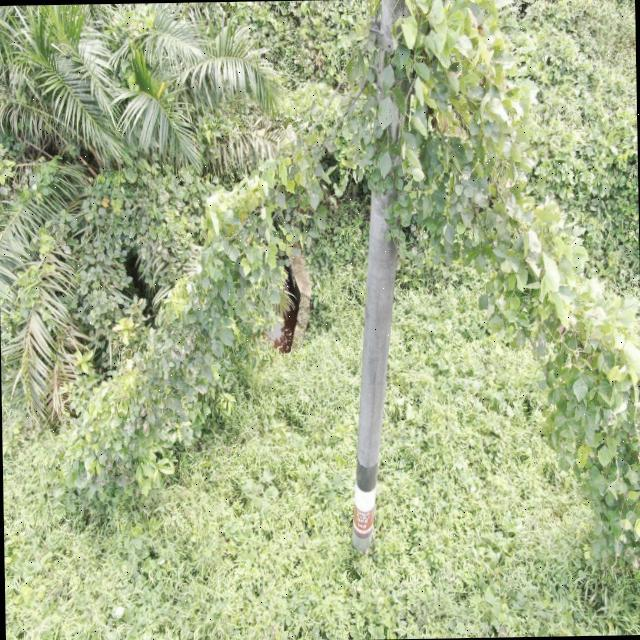critical vegetation: (42, 56, 360, 511), (386, 8, 640, 532)
